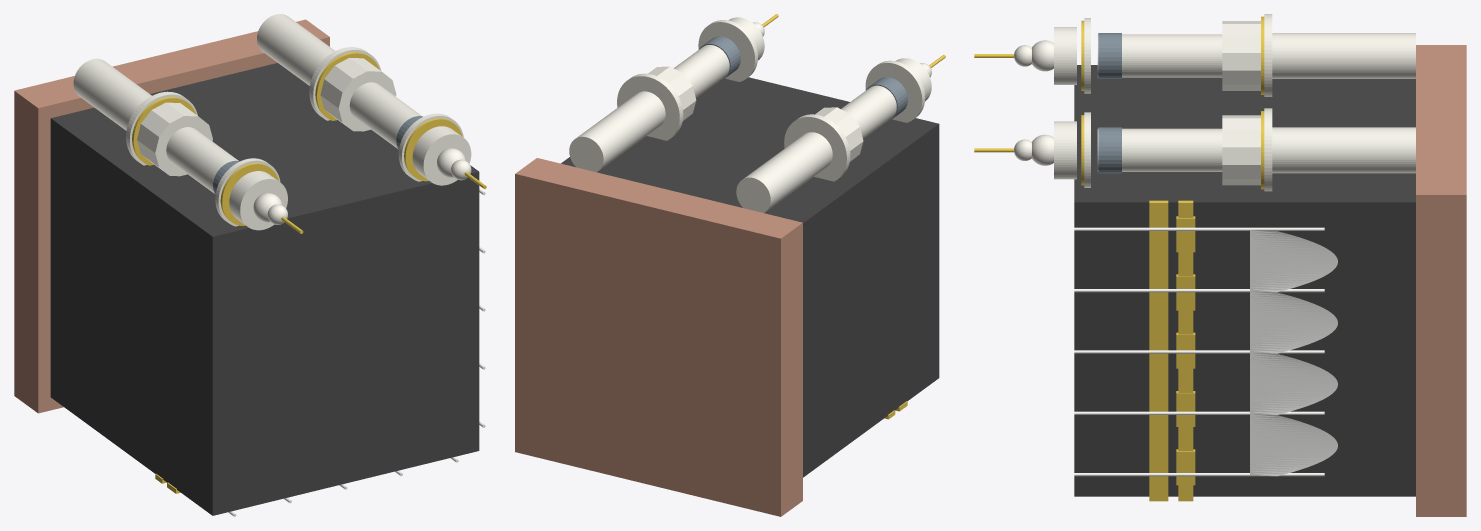
The model's file is kaaba_3d.glb.
3 views of the same model, side by side, from view 1: azimuth 30°, elevation 25°; view 2: azimuth 150°, elevation 25°; view 3: azimuth 270°, elevation 25° (orthographic). The views are drawn at different scales.
Parts seen in each view (by area): view 1: Kaaba_Black_Cloth, Brick_Plinth, Minaret_L_shaft_low, Minaret_R_shaft_low, Minaret_L_lantern_cream1, Minaret_R_lantern_cream1, Minaret_R_shaft_upper, Minaret_L_shaft_upper, Minaret_R_crown_base, Minaret_L_crown_base, Minaret_R_balcony_gold2, Minaret_L_balcony_gold2 (+6 smaller); view 2: Brick_Plinth, Kaaba_Black_Cloth, Minaret_L_shaft_low, Minaret_R_shaft_low, Minaret_L_balcony_disc1, Minaret_R_balcony_disc1, Minaret_L_shaft_upper, Minaret_R_shaft_upper, Minaret_L_balcony_disc2, Minaret_R_balcony_disc2, Minaret_L_lantern_cream1, Minaret_R_lantern_cream1 (+3 smaller); view 3: Kaaba_Black_Cloth, Brick_Plinth, Minaret_R_shaft_low, Minaret_L_shaft_low, Gold_Band_Right, Minaret_L_shaft_upper, Minaret_R_shaft_upper, Drape_R_0, Drape_R_3, Drape_R_2, Drape_R_1, Minaret_R_lantern_cream1 (+20 smaller).
Boxes of the visible parts, x1,y1,x2,y2 form: Kaaba_Black_Cloth: (50, 63, 479, 515); Brick_Plinth: (14, 19, 329, 413); Minaret_L_shaft_low: (73, 58, 151, 130); Minaret_R_shaft_low: (257, 14, 334, 85); Minaret_L_lantern_cream1: (137, 102, 212, 176); Minaret_R_lantern_cream1: (320, 58, 396, 131); Minaret_R_shaft_upper: (349, 82, 421, 149); Minaret_L_shaft_upper: (166, 127, 238, 193); Minaret_R_crown_base: (412, 126, 471, 185); Minaret_L_crown_base: (229, 171, 287, 230); Minaret_R_balcony_gold2: (404, 118, 462, 181); Minaret_L_balcony_gold2: (220, 163, 278, 225); Brick_Plinth: (515, 158, 802, 516); Kaaba_Black_Cloth: (561, 77, 939, 477); Minaret_L_shaft_low: (736, 132, 832, 212); Minaret_R_shaft_low: (569, 91, 665, 172); Minaret_L_balcony_disc1: (784, 114, 850, 181); Minaret_R_balcony_disc1: (617, 73, 683, 140); Minaret_L_shaft_upper: (841, 85, 896, 138); Minaret_R_shaft_upper: (674, 45, 729, 97); Minaret_L_balcony_disc2: (865, 60, 925, 122); Minaret_R_balcony_disc2: (698, 20, 757, 81); Minaret_L_lantern_cream1: (815, 107, 863, 161); Minaret_R_lantern_cream1: (648, 66, 696, 120); Kaaba_Black_Cloth: (1074, 65, 1415, 496); Brick_Plinth: (1416, 45, 1466, 516); Minaret_R_shaft_low: (1272, 127, 1415, 173); Minaret_L_shaft_low: (1272, 33, 1415, 78); Gold_Band_Right: (1149, 200, 1168, 499); Minaret_L_shaft_upper: (1097, 34, 1222, 77); Minaret_R_shaft_upper: (1097, 128, 1222, 171); Drape_R_0: (1250, 414, 1337, 476); Drape_R_3: (1250, 230, 1337, 292); Drape_R_2: (1250, 291, 1337, 353); Drape_R_1: (1250, 353, 1337, 414); Minaret_R_lantern_cream1: (1222, 115, 1260, 185).
Bounding box in the file's own units: 5.25 × 6.14 × 7.28.
